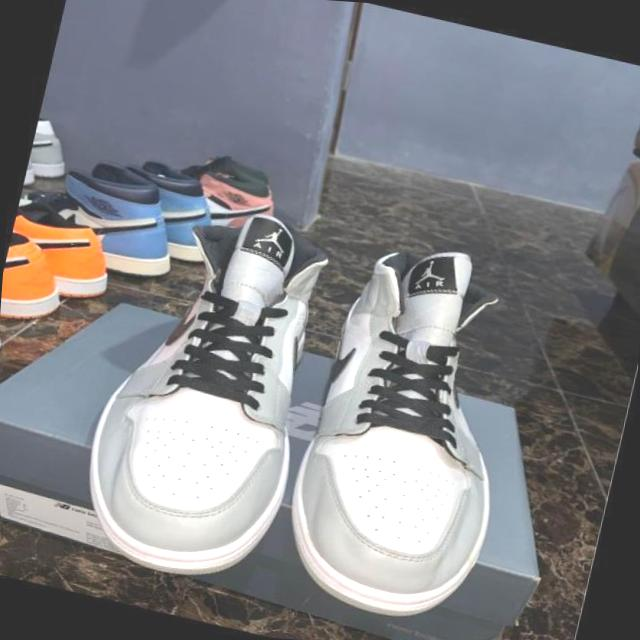nike_fake_jordan: (258, 219, 553, 640), (62, 186, 348, 602)
